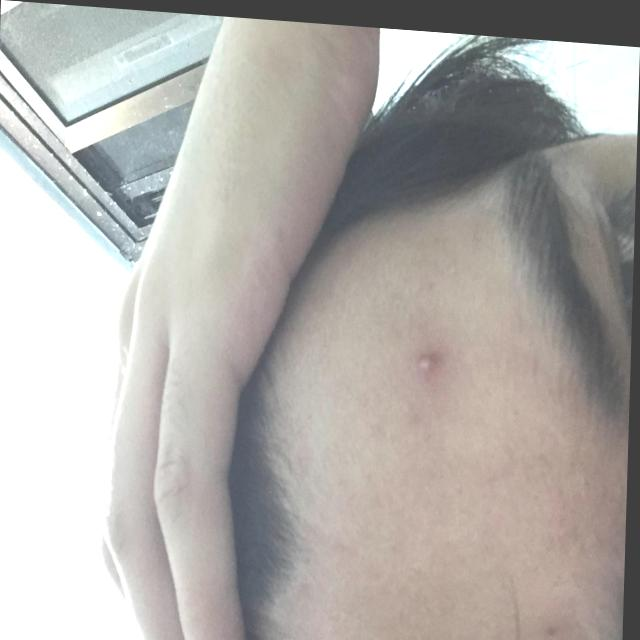blackheads: (408, 336, 449, 385)
